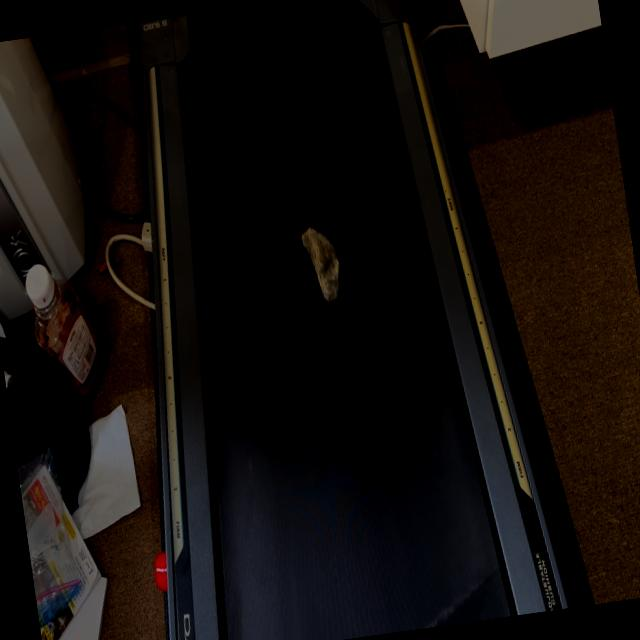Trash: (299, 223, 346, 307)
